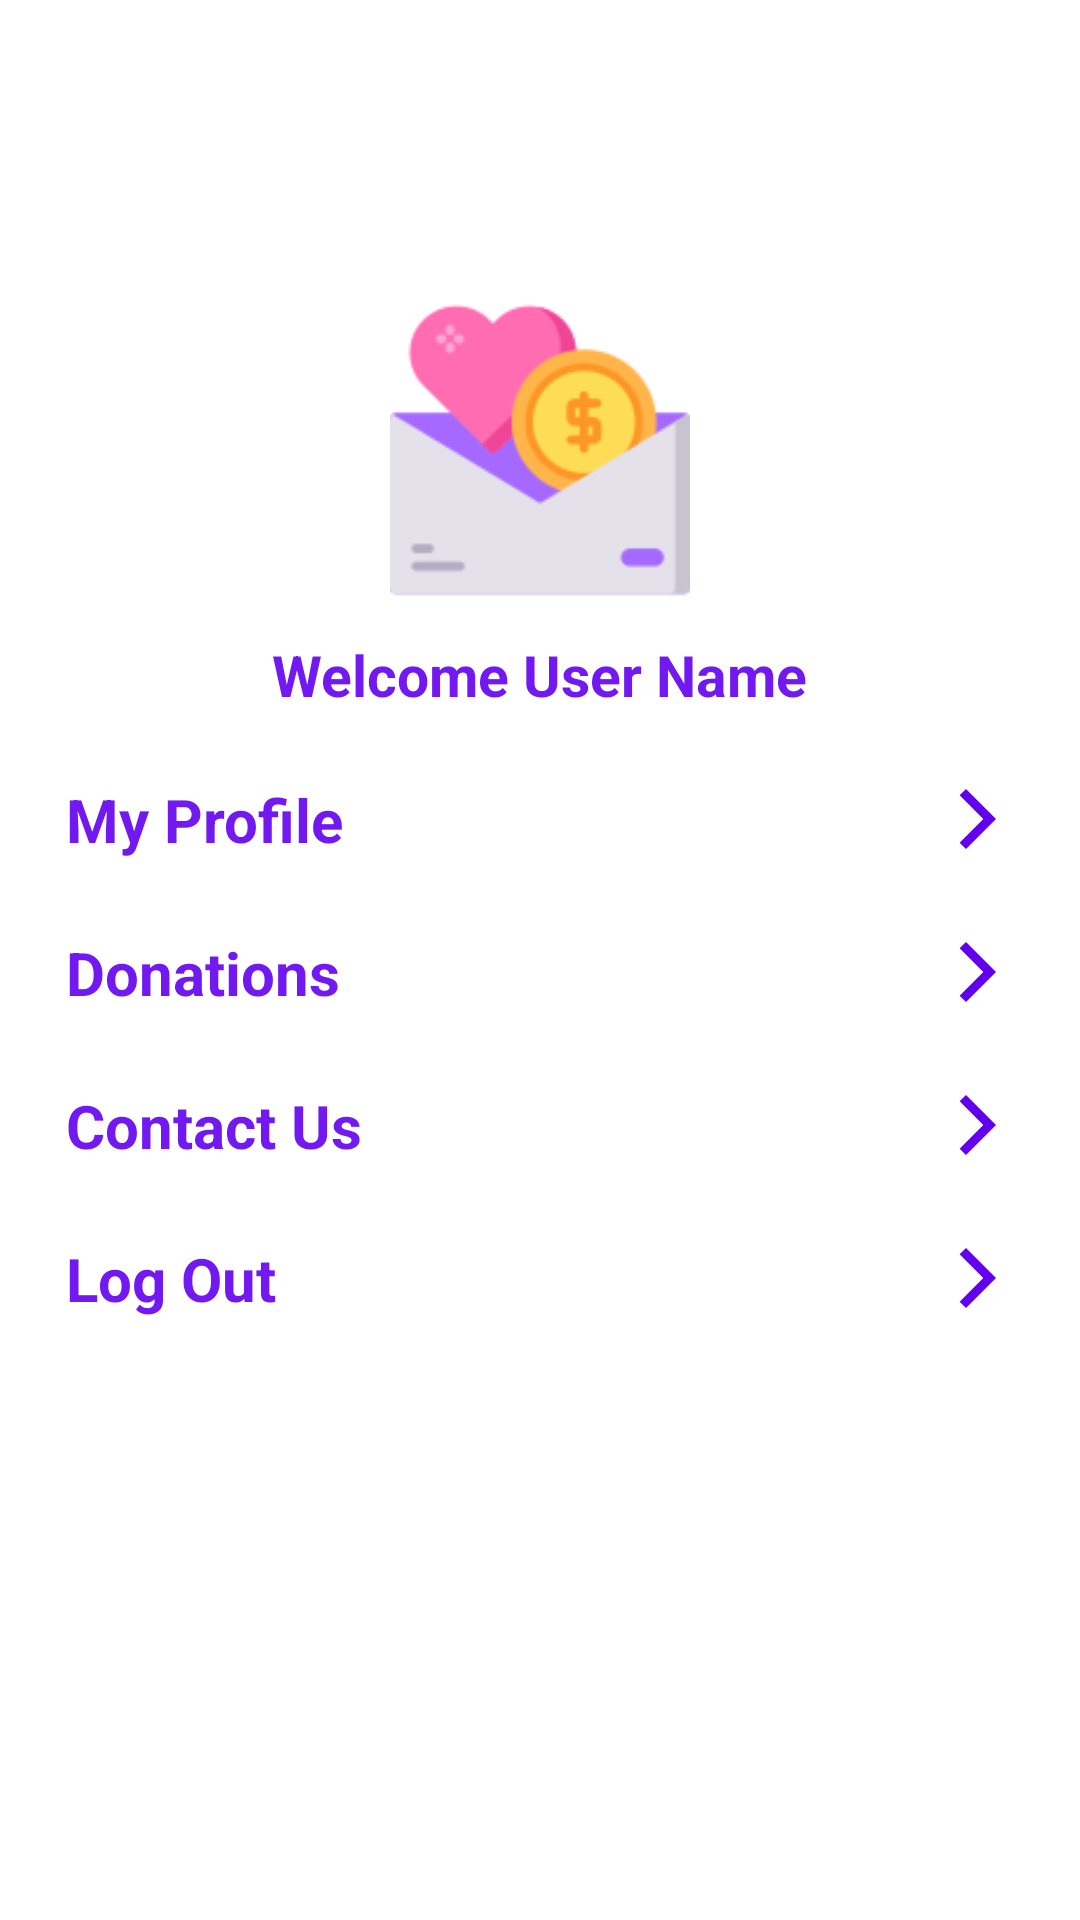

Icons on this 1080 × 1920 Android screen, each with the point to tap as (x=x, y=y):
donation: (x=540, y=450)
